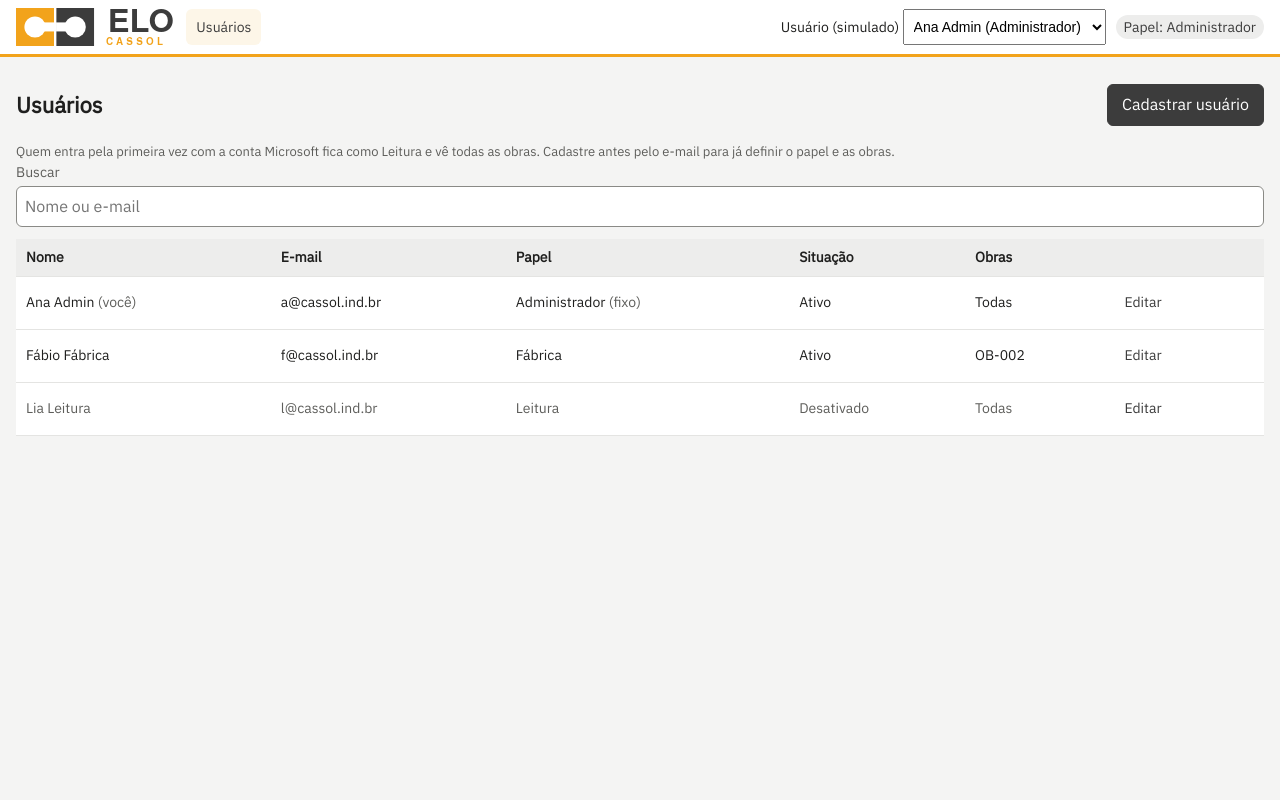
Scenario: Tela Usuários › admin fixo e o próprio admin não trocam de papel
Click the button with aria-label "Editar Ana Admin" at (1143, 303), box x1=1112 y1=285 x2=1175 y2=321
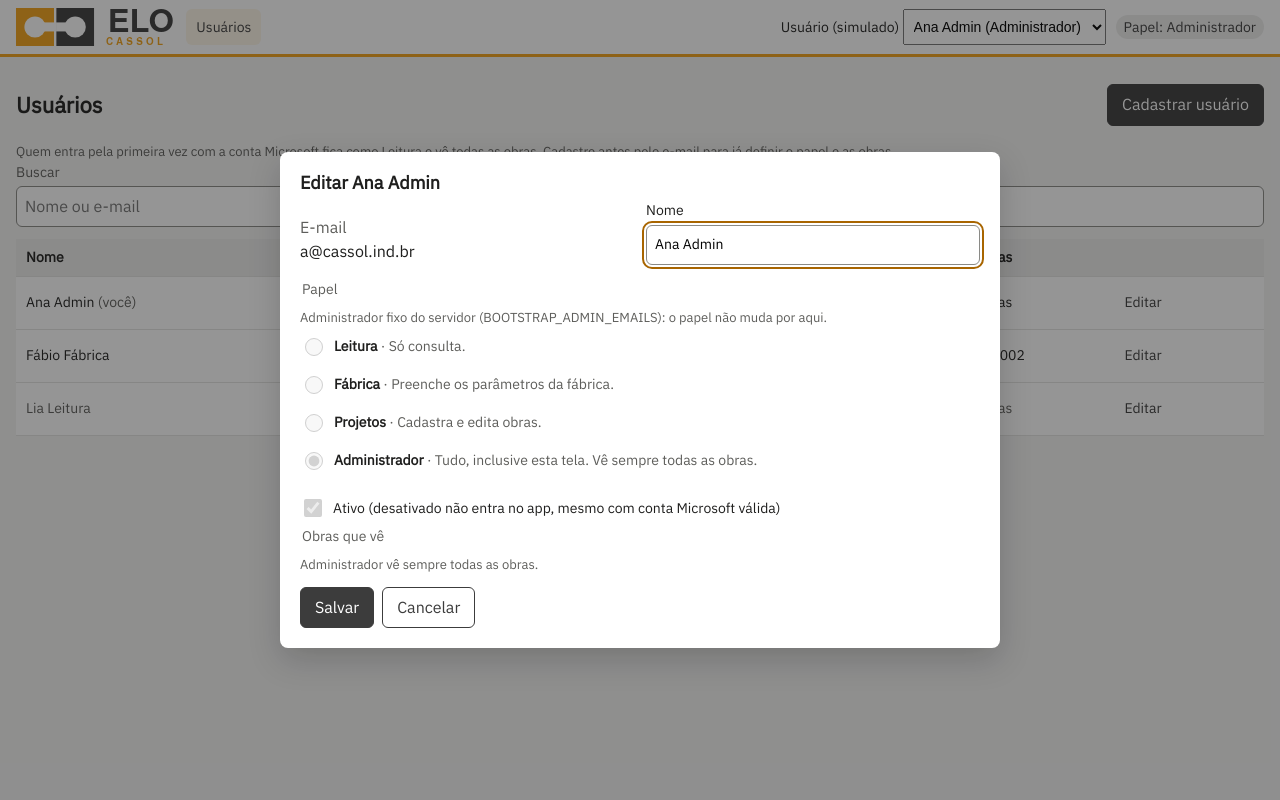
Expected: the text "BOOTSTRAP_ADMIN_EMAILS" is shown, x1=300 y1=309 x2=827 y2=326
Expected: the radio button labelled "Leitura · Só consulta." is disabled, x1=305 y1=338 x2=323 y2=356
Expected: the checkbox labelled "Ativo" is disabled, x1=304 y1=499 x2=322 y2=517
